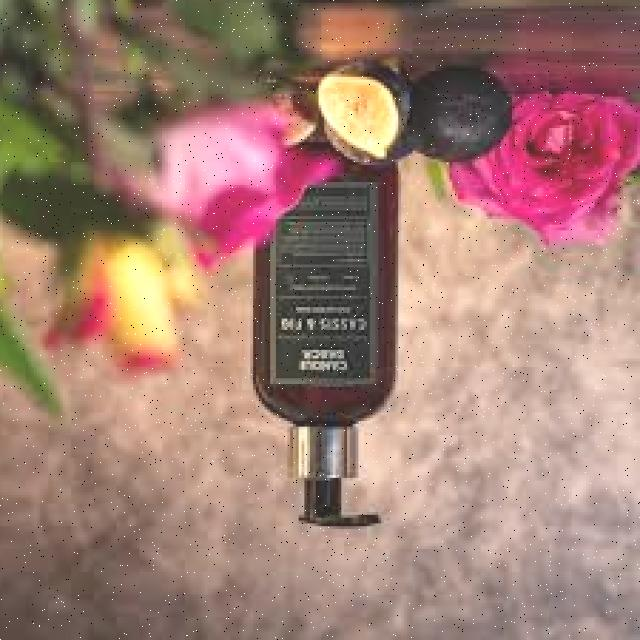liquid soap: (248, 145, 400, 542)
